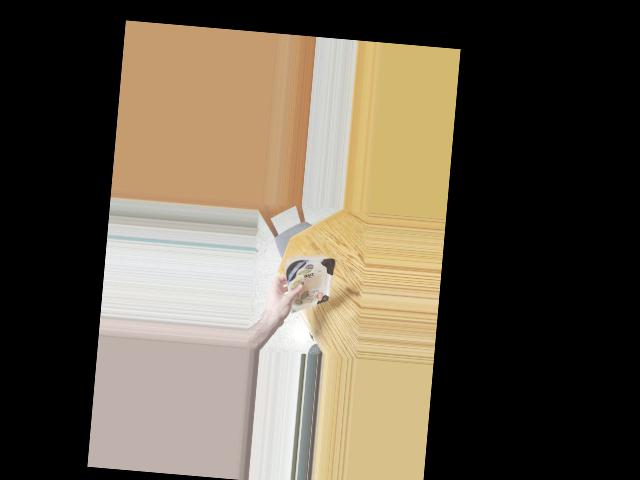cheese: (280, 249, 333, 304)
